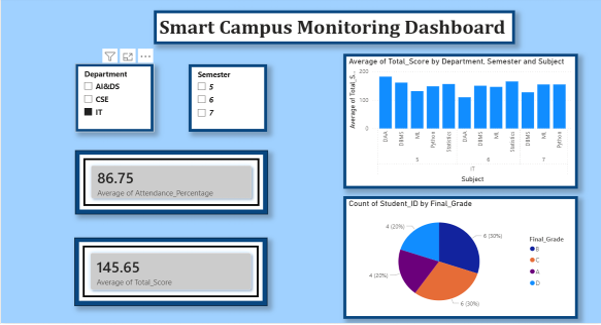

This screenshot's page, from the dashboard's own definition file:
{"tool":"powerbi","page":{"name":"Page 1","canvas":[1280,720],"ordinal":0},"visuals":[{"type":"textbox","box":[325.2,27.4,768.4,75.5],"z":0},{"type":"cardVisual","fields":{"Data":["Avg(5 student_performance.Attendance_Percentage)"]},"box":[157.8,337.6,410.3,141.3],"z":1000},{"type":"cardVisual","fields":{"Data":["Avg(5 student_performance.Total_Score)"]},"box":[156.4,531,410.3,150.9],"z":2000},{"type":"slicer","fields":{"Values":["5 student_performance.Department"]},"box":[157.8,145.5,167.4,150.9],"z":3000},{"type":"slicer","fields":{"Values":["5 student_performance.Semester"]},"box":[399.3,146.8,167.4,149.6],"z":4000},{"type":"clusteredColumnChart","fields":{"Y":["Avg(5 student_performance.Total_Score)"],"Category":["5 student_performance.Department","5 student_performance.Semester","5 student_performance.Subject"]},"box":[728.6,123.5,499.5,299.1],"z":5000},{"type":"pieChart","fields":{"Category":["5 student_performance.Final_Grade"],"Y":["CountNonNull(5 student_performance.Student_ID)"]},"box":[728.6,439.1,499.5,271.7],"z":6000}]}

Visuals, with their boxes in screenshot pixels (x1, y1, x2, y2):
textbox: pyautogui.locateOnScreen(157, 11, 512, 46)
cardVisual - Avg(5 student_performance.Attendance_Percentage): pyautogui.locateOnScreen(79, 154, 269, 220)
cardVisual - Avg(5 student_performance.Total_Score): pyautogui.locateOnScreen(79, 244, 268, 314)
slicer - 5 student_performance.Department: pyautogui.locateOnScreen(79, 66, 157, 135)
slicer - 5 student_performance.Semester: pyautogui.locateOnScreen(191, 66, 268, 135)
clusteredColumnChart - Avg(5 student_performance.Total_Score) x 5 student_performance.Department: pyautogui.locateOnScreen(343, 56, 574, 194)
pieChart - 5 student_performance.Final_Grade x CountNonNull(5 student_performance.Student_ID): pyautogui.locateOnScreen(343, 201, 574, 324)
